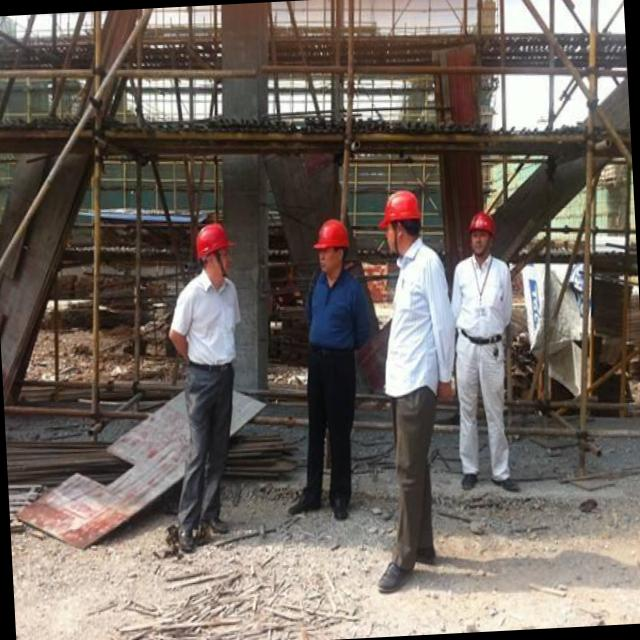helmet: (382, 183, 427, 229), (316, 215, 350, 258), (195, 220, 230, 256), (469, 208, 495, 233)
no-vest: (376, 250, 454, 407), (179, 272, 246, 375), (456, 244, 517, 350), (306, 268, 372, 347)
